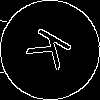K: (25, 25, 82, 77)
